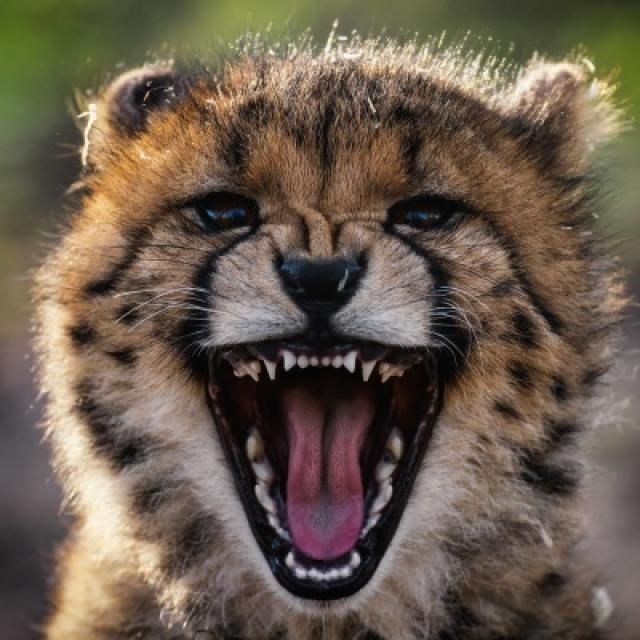Cheetah: (34, 40, 611, 633)
